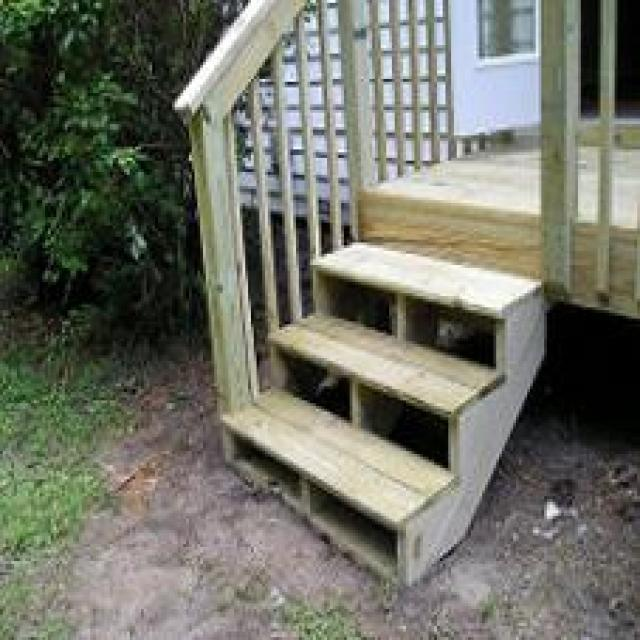Stair Up: (221, 245, 550, 580)
